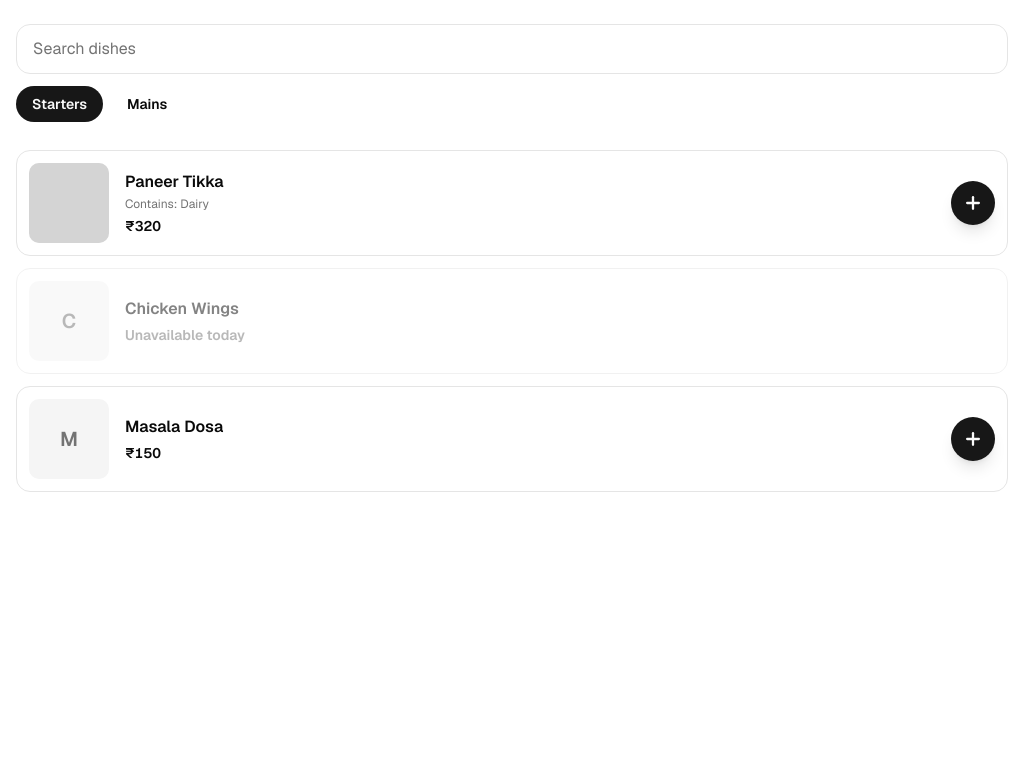
Scenario: MenuView › shows a failed quick add without leaving the menu
The image size is (1024, 768).
Expected: the element with test id "qr-menu" is shown, left=0, top=0, right=1023, bottom=134
Step 1. Click the button with test id "qr-menu-add-i1" → (973, 203), box left=951, top=181, right=995, bottom=225
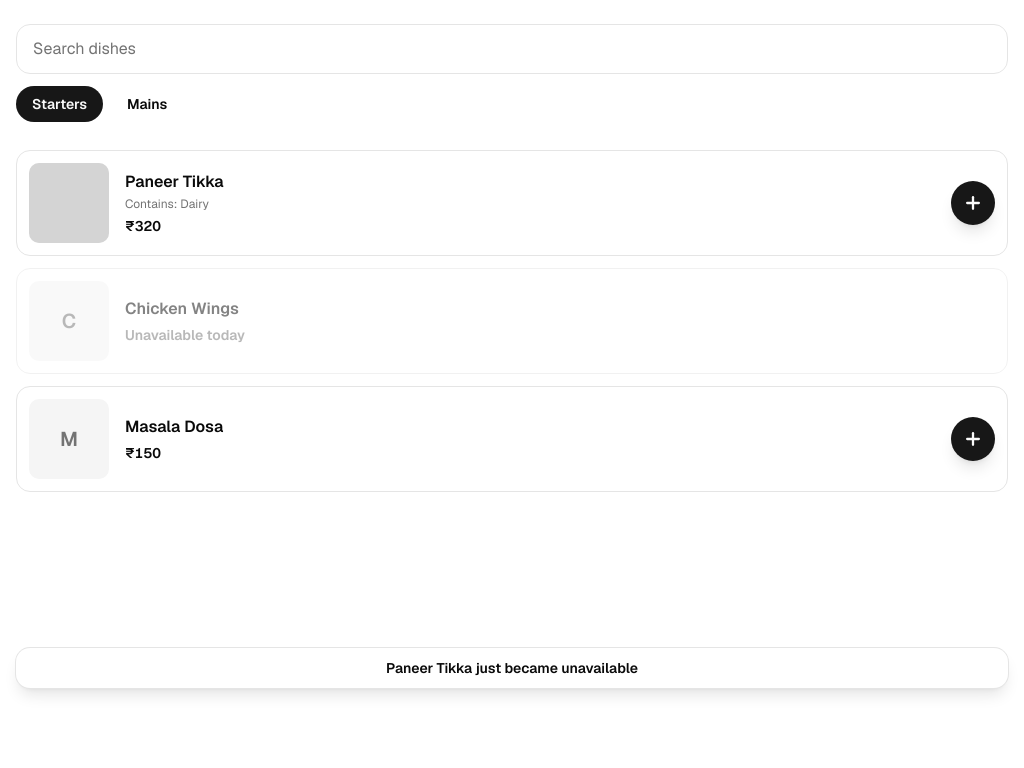
Expected: the message with test id "qr-menu-notice" reads "Paneer Tikka just became unavailable", left=386, top=659, right=638, bottom=677
